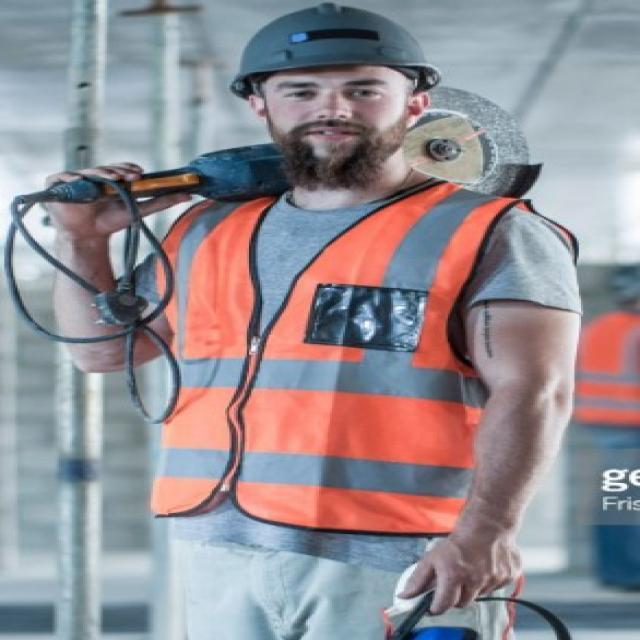safety_helmet: (159, 175, 579, 540)
